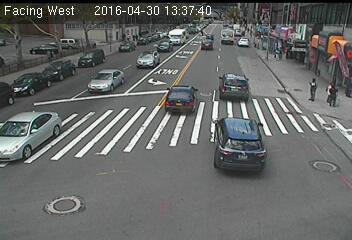neg: (79, 28, 110, 70), (1, 45, 32, 85), (63, 55, 75, 70), (111, 28, 121, 42), (113, 48, 123, 61)
pos: (299, 73, 323, 105), (322, 78, 344, 108)
